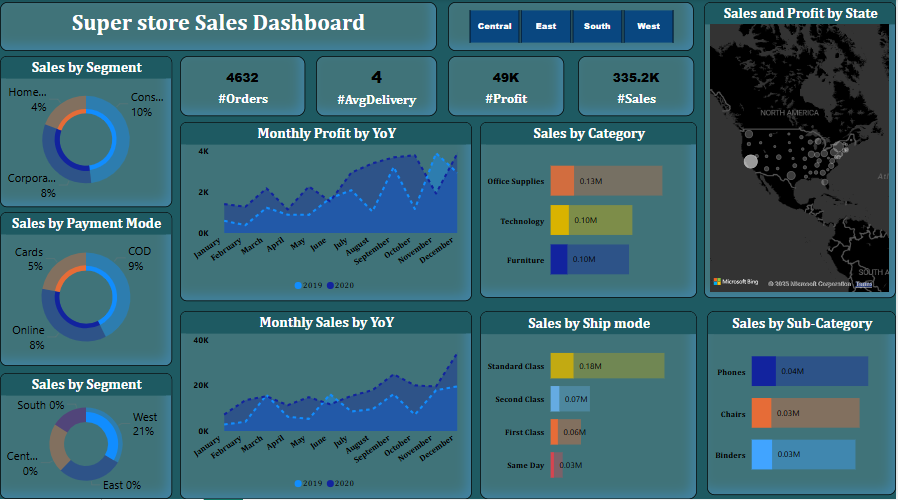

This screenshot's page, from the dashboard's own definition file:
{"tool":"powerbi","page":{"name":"Sales Dashboard","canvas":[1280,720],"ordinal":0},"visuals":[{"type":"barChart","title":"Sales by Category","fields":{"Category":["SuperStore_Sales_Dataset.Category"],"Y":["Sum(SuperStore_Sales_Dataset.Sales)"]},"box":[685.7,181.4,310,251.4],"z":0},{"type":"barChart","title":"Sales by Sub-Category","fields":{"Y":["Sum(SuperStore_Sales_Dataset.Sales)"],"Category":["SuperStore_Sales_Dataset.Sub-Category"]},"box":[1010,451.4,270,262.9],"z":1000},{"type":"barChart","title":"Sales by Ship mode","fields":{"Category":["SuperStore_Sales_Dataset.Ship Mode"],"Y":["Sum(SuperStore_Sales_Dataset.Sales)"]},"box":[685.7,451.4,310,268.6],"z":2000},{"type":"areaChart","title":"Monthly Sales by YoY","fields":{"Y":["Sum(SuperStore_Sales_Dataset.Sales)"],"Category":["SuperStore_Sales_Dataset.Order Date.Variation.Date Hierarchy.Month"],"Series":["SuperStore_Sales_Dataset.Order Date.Variation.Date Hierarchy.Year"]},"box":[257.1,451.4,417.1,268.6],"z":3000},{"type":"areaChart","title":"Monthly Profit by YoY","fields":{"Category":["SuperStore_Sales_Dataset.Order Date.Variation.Date Hierarchy.Month"],"Series":["SuperStore_Sales_Dataset.Order Date.Variation.Date Hierarchy.Year"],"Y":["Sum(SuperStore_Sales_Dataset.Profit)"]},"box":[257.1,181.4,417.1,255.7],"z":4000},{"type":"map","title":"Sales and Profit by State","fields":{"Category":["SuperStore_Sales_Dataset.State"],"Size":["Sum(SuperStore_Sales_Dataset.Sales)"]},"box":[1005.7,10,274.3,422.9],"z":5000},{"type":"donutChart","title":"Sales by Segment","fields":{"Category":["SuperStore_Sales_Dataset.Segment"],"Y":["Sum(SuperStore_Sales_Dataset.Sales)"]},"box":[0,87.1,245.7,215.7],"z":6000},{"type":"donutChart","title":"Sales by Payment Mode","fields":{"Y":["Sum(SuperStore_Sales_Dataset.Sales)"],"Category":["SuperStore_Sales_Dataset.Payment Mode"]},"box":[0,310,245.7,220],"z":7000},{"type":"slicer","fields":{"Values":["SuperStore_Sales_Dataset.Region"]},"box":[640,10,351.4,70],"z":8000},{"type":"textbox","box":[0,10,624.3,70],"z":9000},{"type":"card","fields":{"Values":["Sum(SuperStore_Sales_Dataset.Sales)"]},"box":[825.7,87.1,165.7,85.7],"z":10000},{"type":"card","fields":{"Values":["Sum(SuperStore_Sales_Dataset.Profit)"]},"box":[640,87.1,165.7,85.7],"z":11000},{"type":"card","fields":{"Values":["Sum(SuperStore_Sales_Dataset.Quantity)"]},"box":[257.1,87.1,178.6,85.7],"z":12000},{"type":"card","fields":{"Values":["Avg(SuperStore_Sales_Dataset.AvgDelivery)"]},"box":[451.4,87.1,172.9,85.7],"z":13000},{"type":"donutChart","title":"Sales by Segment","fields":{"Y":["Sum(SuperStore_Sales_Dataset.Sales)"],"Category":["SuperStore_Sales_Dataset.Region"]},"box":[0,540,245.7,180],"z":14000}]}

Visuals, with their boxes in screenshot pixels (x1, y1, x2, y2), scaled from the page's 1280x720 canvas onto the 898x500 screenshot:
"Sales by Category" barChart: <bbox>481, 126, 699, 301</bbox>
"Sales by Sub-Category" barChart: <bbox>709, 313, 897, 496</bbox>
"Sales by Ship mode" barChart: <bbox>481, 313, 699, 499</bbox>
"Monthly Sales by YoY" areaChart: <bbox>180, 313, 473, 499</bbox>
"Monthly Profit by YoY" areaChart: <bbox>180, 126, 473, 304</bbox>
"Sales and Profit by State" map: <bbox>706, 7, 897, 301</bbox>
"Sales by Segment" donutChart: <bbox>0, 60, 172, 210</bbox>
"Sales by Payment Mode" donutChart: <bbox>0, 215, 172, 368</bbox>
slicer - SuperStore_Sales_Dataset.Region: <bbox>449, 7, 696, 56</bbox>
textbox: <bbox>0, 7, 438, 56</bbox>
card - Sum(SuperStore_Sales_Dataset.Sales): <bbox>579, 60, 696, 120</bbox>
card - Sum(SuperStore_Sales_Dataset.Profit): <bbox>449, 60, 565, 120</bbox>
card - Sum(SuperStore_Sales_Dataset.Quantity): <bbox>180, 60, 306, 120</bbox>
card - Avg(SuperStore_Sales_Dataset.AvgDelivery): <bbox>317, 60, 438, 120</bbox>
"Sales by Segment" donutChart: <bbox>0, 375, 172, 499</bbox>
